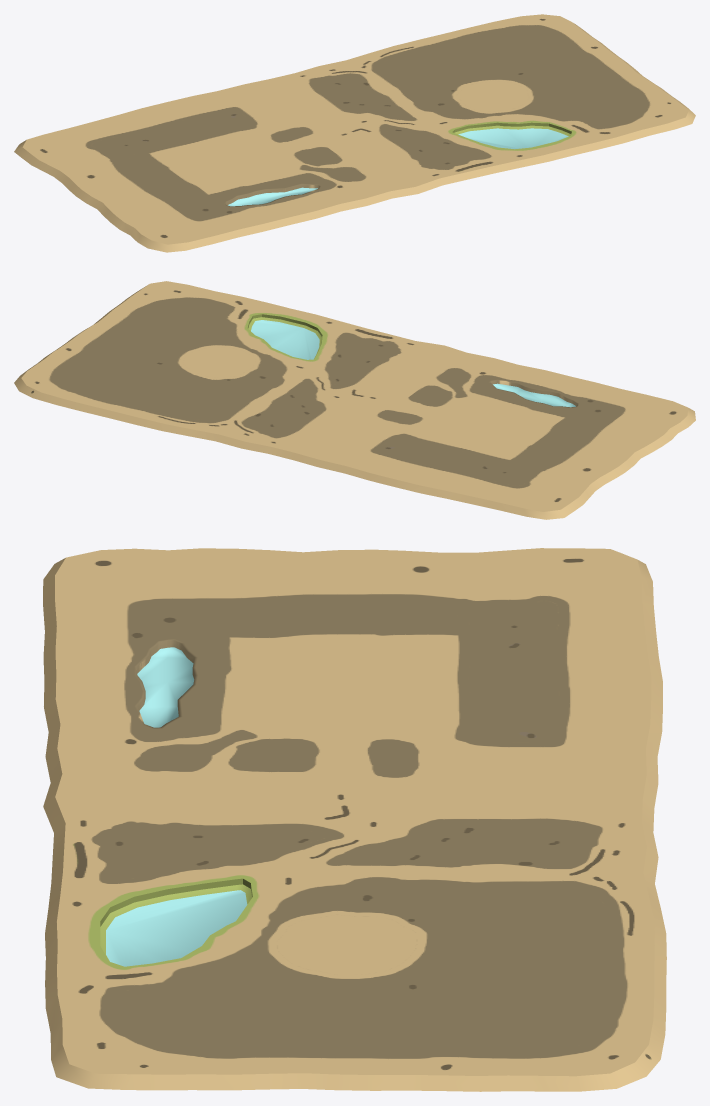
Rendered from Tax Ground.fbx.
3 views of the same model, one above another, from view 1: azimuth 30°, elevation 25°; view 2: azimuth 150°, elevation 25°; view 3: azimuth 270°, elevation 25° (orthographic). The views are drawn at different scales.
Visible parts, largest first — view 1: Tax Ground; view 2: Tax Ground; view 3: Tax Ground.
Part boxes in pixels (x1,y1,x2,y2): Tax Ground: [14, 14, 695, 252]; Tax Ground: [14, 281, 695, 519]; Tax Ground: [43, 548, 666, 1091].
Size of the model in its own units: 5.89 by 0.05 by 2.88.
